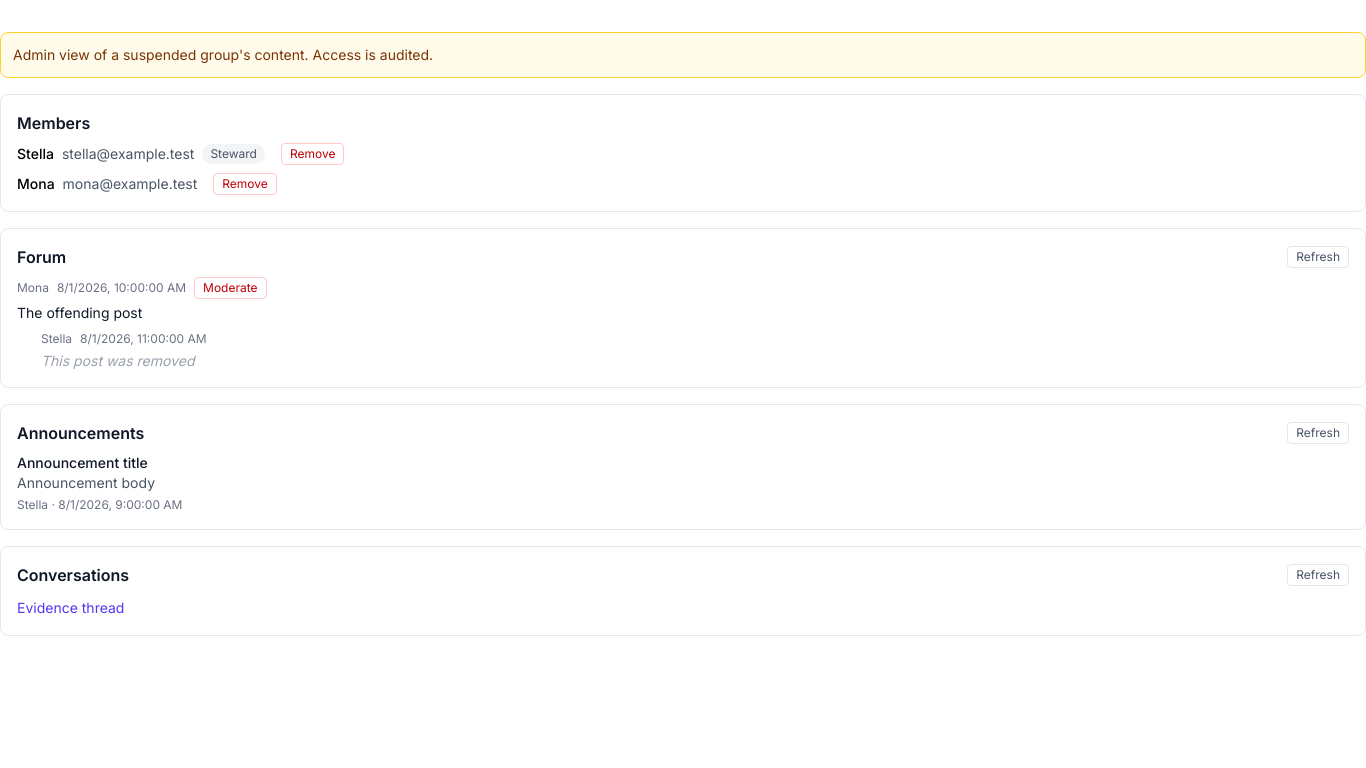
Test case: AdminSuspendedContentWing (FEAT-H041) › conversations: the list opens into read-only message bodies with no compose/reply/leave affordances, and Back returns
Click the button with test id "open-conversation-c0000000-0000-4000-8000-000000000001": (71, 608) [17,598,124,618]
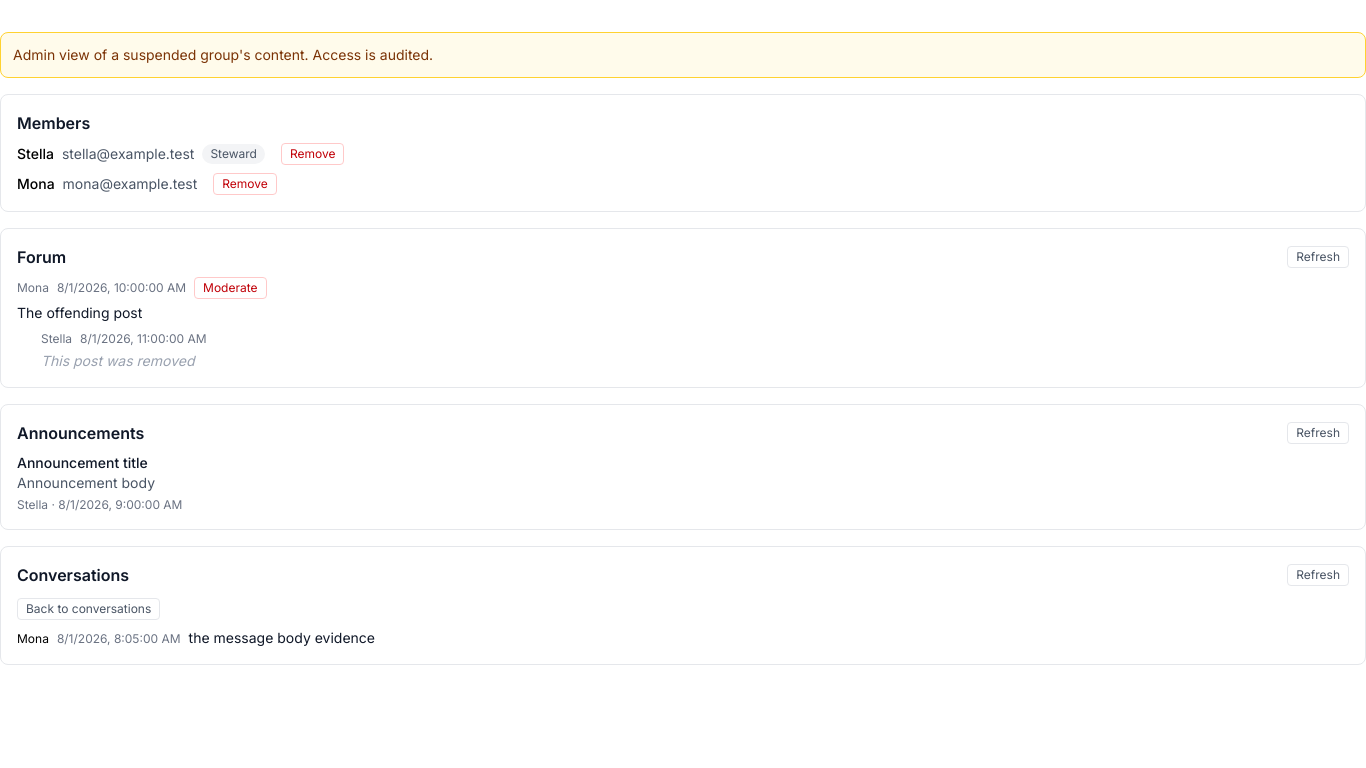
Result: the text "the message body evidence" is shown at [189,629,375,646]
Result: the text "Mona" next to "8/1/2026, 8:05:00 AM" is shown at [17,631,49,646]
Click the button with test id "conversation-back": (89, 609) [17,598,160,620]
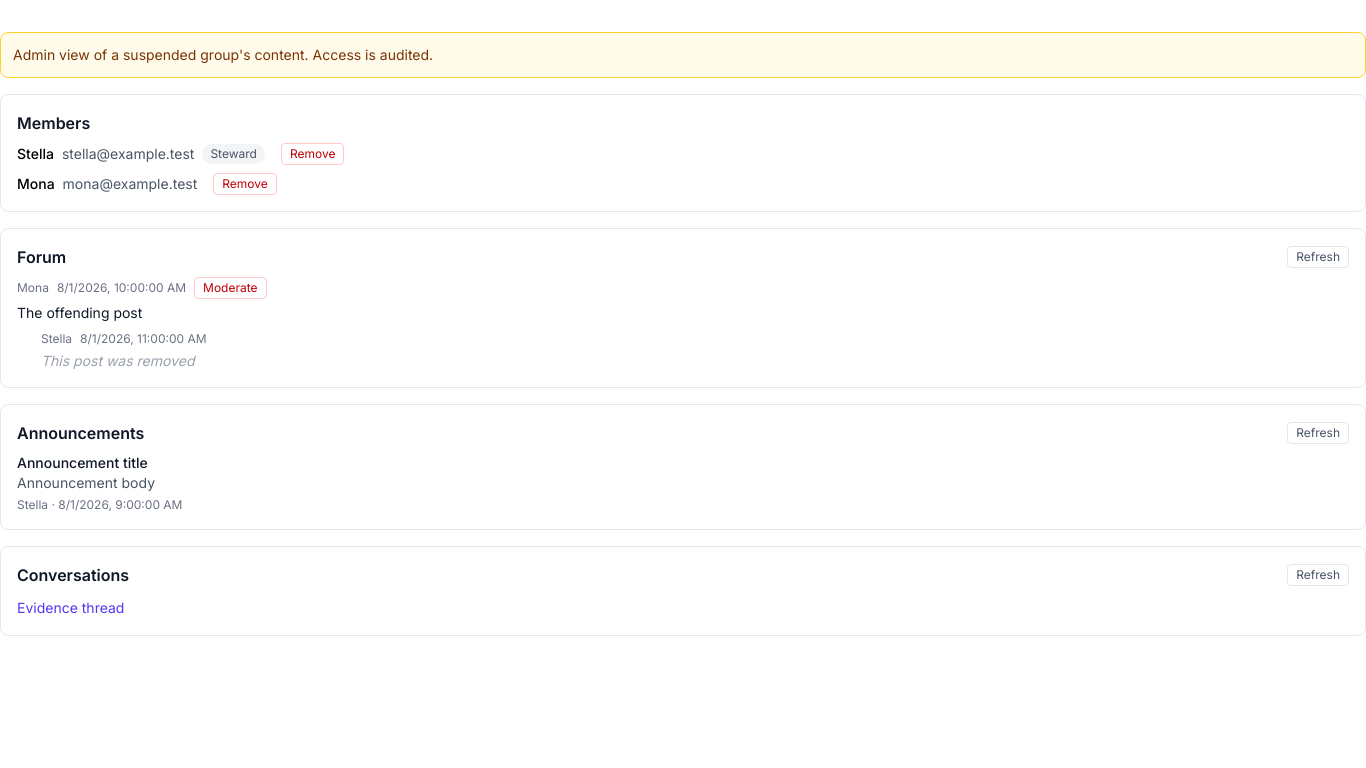
Result: the button with test id "open-conversation-c0000000-0000-4000-8000-000000000001" is shown at [17,598,124,618]
